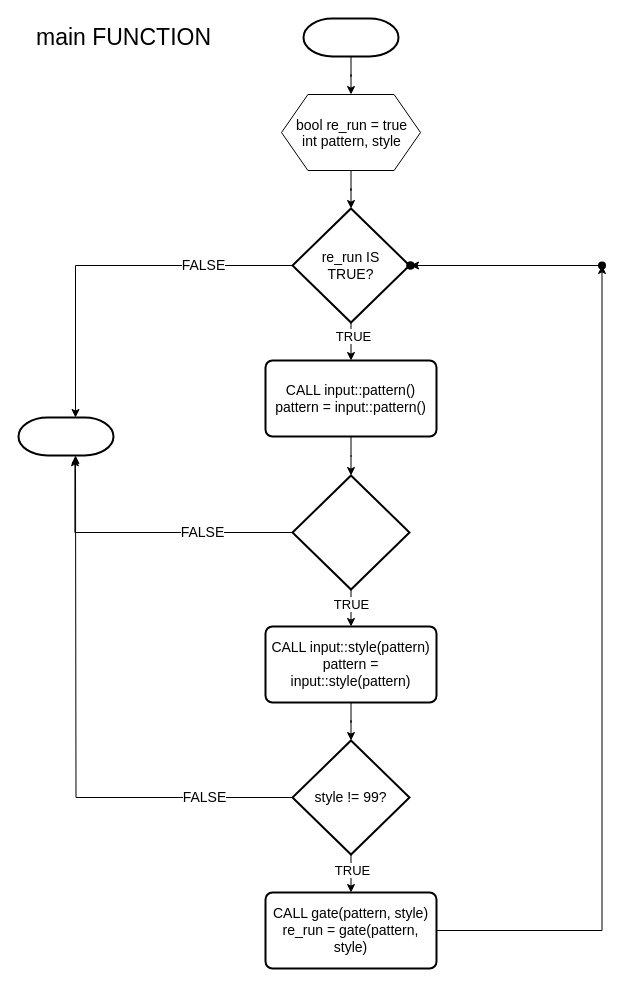
Some shapes in this 630 by 986 pixel diagram are drawn without their labels. Here are the shapes that lost their labels. From the top down, the centre of each, then its label:
(350,37): START
(65,436): END
(350,532): pattern != 99?
